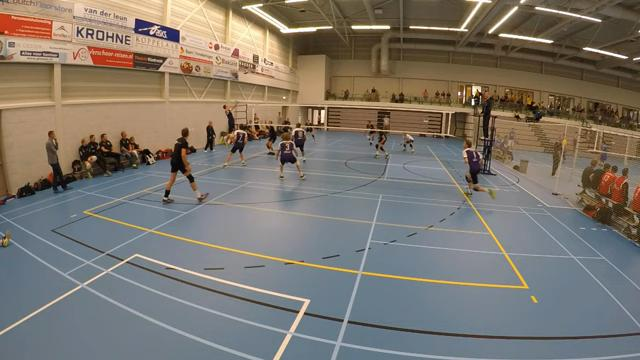Attack: (216, 94, 240, 140)
Player: (162, 128, 207, 203), (463, 140, 494, 198), (275, 133, 305, 179), (219, 99, 242, 143), (223, 124, 247, 166), (292, 123, 305, 161), (374, 127, 388, 157), (266, 125, 276, 154), (366, 121, 375, 145), (306, 121, 316, 142), (403, 133, 414, 152)
